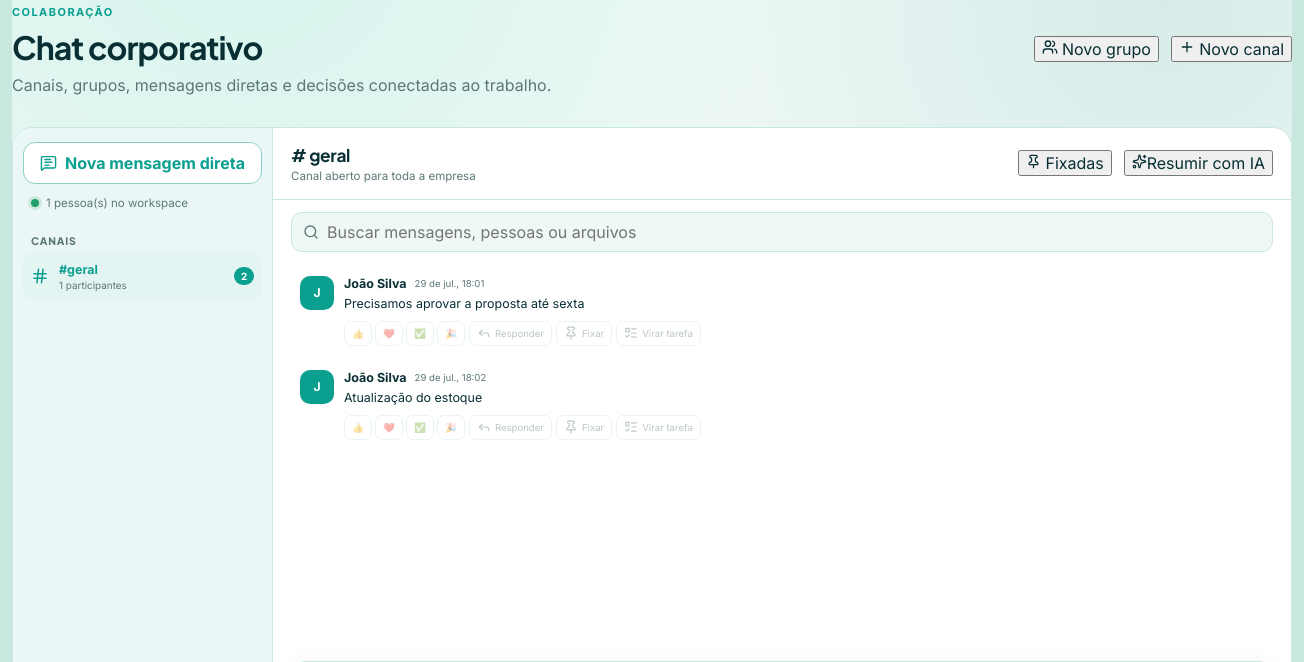
interface do chat corporativo › busca mensagens pelo texto e oculta o restante
In the field labelled "Buscar mensagens": (794, 232) [327,213,1261,251], type "estoque"
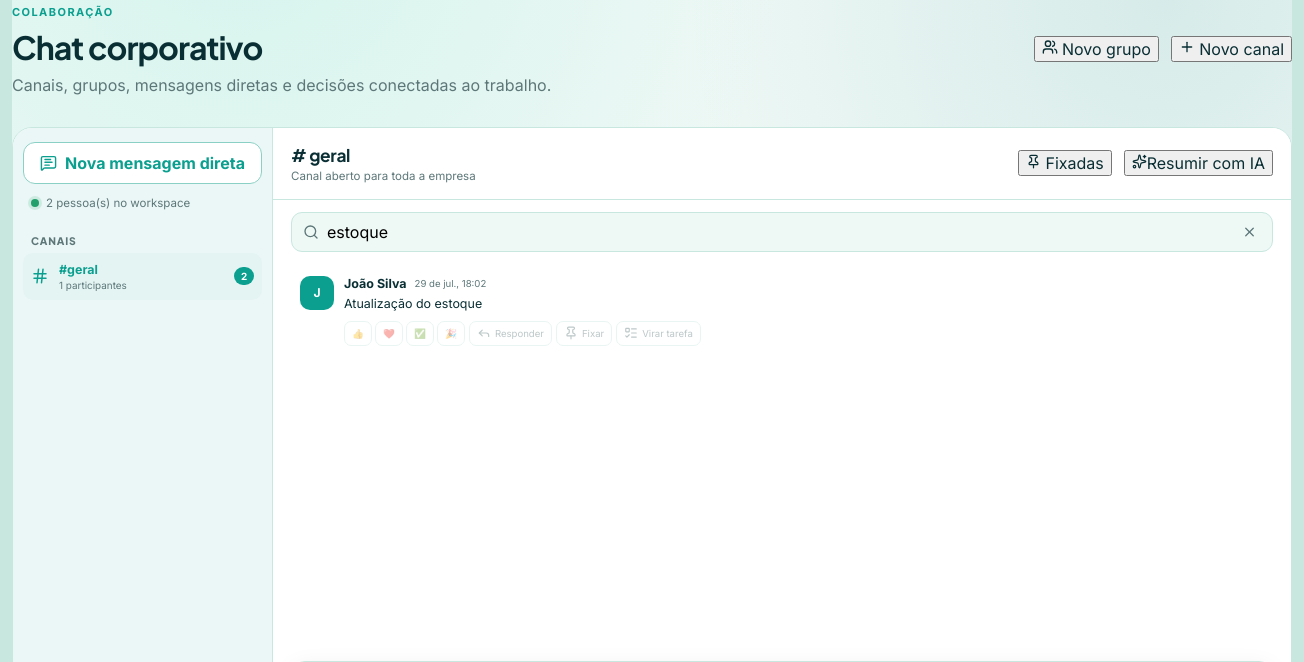
Expected: the text "Atualização do estoque" is shown, [344,296,482,311]
Now the text "Precisamos aprovar a proposta até sexta" is gone
